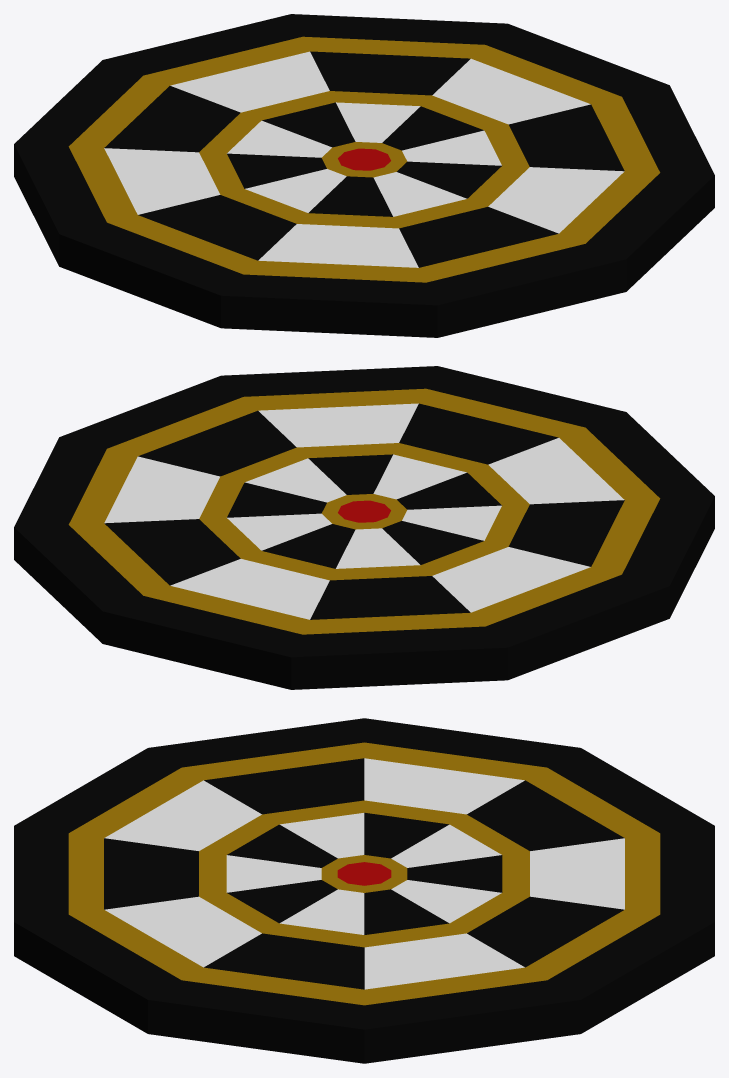
Rendered from Dartboard.fbx.
3 renders of one model, top to bottom at view 1: azimuth 30°, elevation 25°; view 2: azimuth 150°, elevation 25°; view 3: azimuth 270°, elevation 25°, orthographic. The views are drawn at different scales.
Parts seen in each view (by area): view 1: pCylinder1; view 2: pCylinder1; view 3: pCylinder1.
Boxes of the visible parts, x1,y1,x2,y2 form: pCylinder1: (14, 14, 714, 337); pCylinder1: (14, 366, 714, 689); pCylinder1: (14, 718, 714, 1063).
Size of the model in its own units: 26.17 by 1.34 by 24.89.
